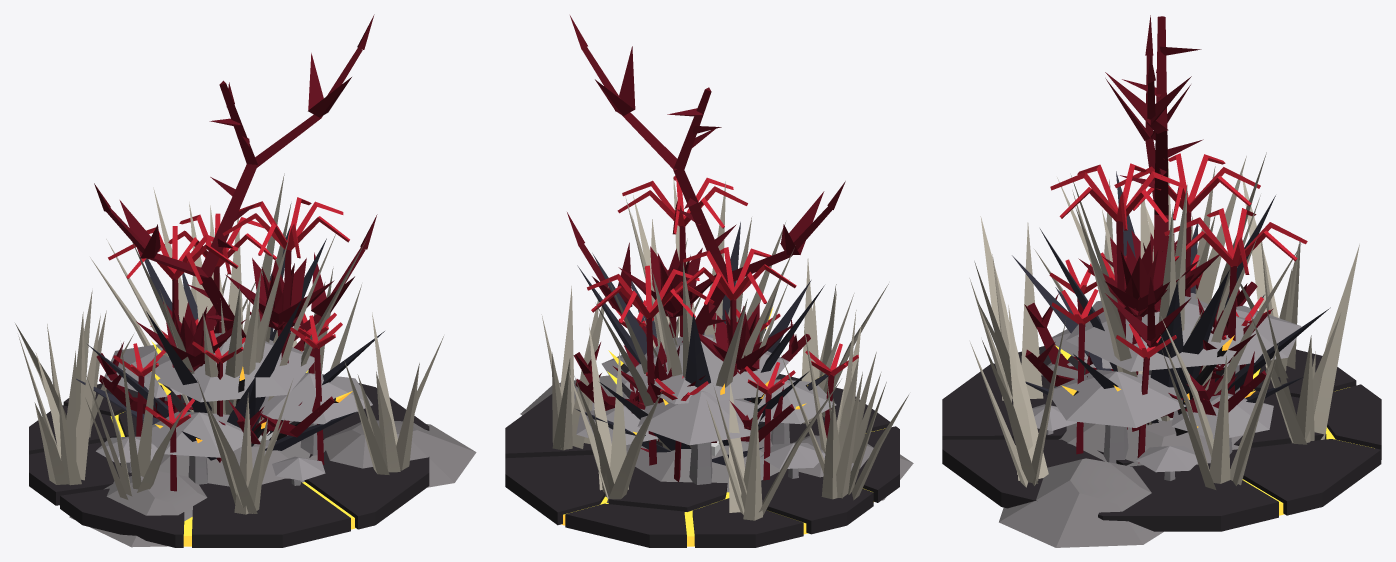
Rendered from Nightfall_Plants.fbx.
3 renders of one model, left to right at view 1: azimuth 30°, elevation 25°; view 2: azimuth 150°, elevation 25°; view 3: azimuth 270°, elevation 25°, orthographic. The views are drawn at different scales.
Parts seen in each view (by area): view 1: Nightfall_Plants_EmberCrust__Cinder, Nightfall_Plants_AshGrassA__AshBlade, Nightfall_Plants_Ashcap__AshCap, Nightfall_Plants_AshDrift__AshPile, Nightfall_Plants_ThornClimber__DeepCrimson, Nightfall_Plants_AshGrassB__AshBlade, Nightfall_Plants_Spearleaf__SpearBlade, Nightfall_Plants_SpiderLilyA__Crimson, Nightfall_Plants_Thornrose__DeepCrimson, Nightfall_Plants_Thornbrake__DeepCrimson, Nightfall_Plants_SpiderLilyB__Crimson, Nightfall_Plants_SpiderLilyB__DeepCrimson (+2 smaller); view 2: Nightfall_Plants_EmberCrust__Cinder, Nightfall_Plants_AshGrassA__AshBlade, Nightfall_Plants_Ashcap__AshCap, Nightfall_Plants_ThornClimber__DeepCrimson, Nightfall_Plants_AshGrassB__AshBlade, Nightfall_Plants_SpiderLilyA__Crimson, Nightfall_Plants_Spearleaf__SpearBlade, Nightfall_Plants_Thornrose__DeepCrimson, Nightfall_Plants_AshDrift__AshPile, Nightfall_Plants_Thornbrake__DeepCrimson, Nightfall_Plants_SpiderLilyB__Crimson, Nightfall_Plants_SpiderLilyA__DeepCrimson (+2 smaller); view 3: Nightfall_Plants_EmberCrust__Cinder, Nightfall_Plants_AshGrassA__AshBlade, Nightfall_Plants_Ashcap__AshCap, Nightfall_Plants_AshDrift__AshPile, Nightfall_Plants_AshGrassB__AshBlade, Nightfall_Plants_ThornClimber__DeepCrimson, Nightfall_Plants_SpiderLilyA__Crimson, Nightfall_Plants_Spearleaf__SpearBlade, Nightfall_Plants_Thornrose__DeepCrimson, Nightfall_Plants_Thornbrake__DeepCrimson, Nightfall_Plants_SpiderLilyB__Crimson, Nightfall_Plants_SpiderLilyA__DeepCrimson (+2 smaller).
Part boxes in pixels (x1,y1,x2,y2): Nightfall_Plants_EmberCrust__Cinder: [29, 374, 429, 547]; Nightfall_Plants_AshGrassA__AshBlade: [15, 257, 443, 514]; Nightfall_Plants_Ashcap__AshCap: [96, 333, 372, 485]; Nightfall_Plants_AshDrift__AshPile: [69, 420, 476, 547]; Nightfall_Plants_ThornClimber__DeepCrimson: [94, 14, 377, 338]; Nightfall_Plants_AshGrassB__AshBlade: [106, 173, 366, 421]; Nightfall_Plants_Spearleaf__SpearBlade: [76, 225, 384, 460]; Nightfall_Plants_SpiderLilyA__Crimson: [108, 197, 349, 284]; Nightfall_Plants_Thornrose__DeepCrimson: [136, 258, 334, 409]; Nightfall_Plants_Thornbrake__DeepCrimson: [96, 311, 334, 444]; Nightfall_Plants_SpiderLilyB__Crimson: [113, 312, 342, 427]; Nightfall_Plants_SpiderLilyB__DeepCrimson: [136, 347, 324, 491]; Nightfall_Plants_EmberCrust__Cinder: [505, 374, 899, 547]; Nightfall_Plants_AshGrassA__AshBlade: [541, 219, 908, 520]; Nightfall_Plants_Ashcap__AshCap: [576, 334, 836, 484]; Nightfall_Plants_ThornClimber__DeepCrimson: [567, 15, 845, 346]; Nightfall_Plants_AshGrassB__AshBlade: [596, 176, 795, 450]; Nightfall_Plants_SpiderLilyA__Crimson: [587, 175, 796, 323]; Nightfall_Plants_Spearleaf__SpearBlade: [576, 222, 841, 465]; Nightfall_Plants_Thornrose__DeepCrimson: [613, 246, 793, 452]; Nightfall_Plants_AshDrift__AshPile: [520, 375, 913, 500]; Nightfall_Plants_Thornbrake__DeepCrimson: [573, 320, 810, 442]; Nightfall_Plants_SpiderLilyB__Crimson: [616, 270, 858, 400]; Nightfall_Plants_SpiderLilyA__DeepCrimson: [646, 226, 737, 465]; Nightfall_Plants_EmberCrust__Cinder: [942, 346, 1381, 531]; Nightfall_Plants_AshGrassA__AshBlade: [969, 166, 1359, 489]; Nightfall_Plants_Ashcap__AshCap: [1032, 293, 1301, 480]; Nightfall_Plants_AshDrift__AshPile: [999, 362, 1242, 547]; Nightfall_Plants_AshGrassB__AshBlade: [1057, 148, 1301, 425]; Nightfall_Plants_ThornClimber__DeepCrimson: [1105, 15, 1203, 347]; Nightfall_Plants_SpiderLilyA__Crimson: [1050, 153, 1307, 274]; Nightfall_Plants_Spearleaf__SpearBlade: [1012, 171, 1330, 423]; Nightfall_Plants_Thornrose__DeepCrimson: [1078, 230, 1273, 431]; Nightfall_Plants_Thornbrake__DeepCrimson: [1024, 272, 1266, 417]; Nightfall_Plants_SpiderLilyB__Crimson: [1049, 252, 1270, 358]; Nightfall_Plants_SpiderLilyA__DeepCrimson: [1116, 211, 1236, 429].
Size of the model in its own units: 6.72 by 7.09 by 5.8.
